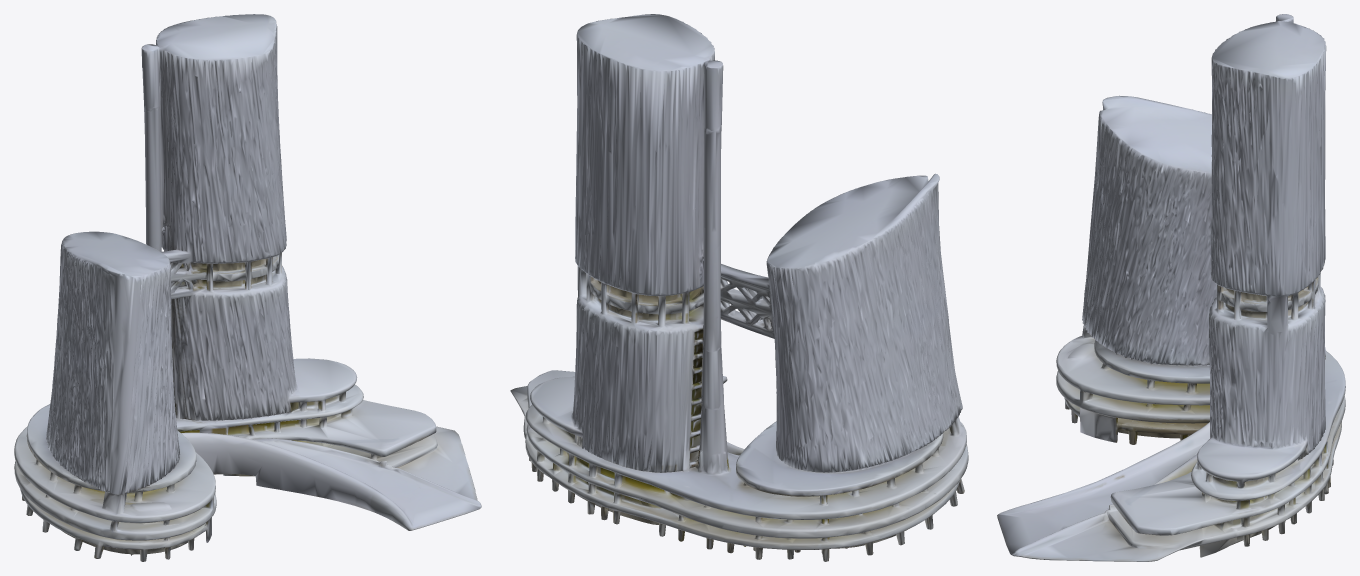
Rendered from highrise-BjZ41bMo.glb.
3 renders of one model, left to right at view 1: azimuth 30°, elevation 25°; view 2: azimuth 150°, elevation 25°; view 3: azimuth 270°, elevation 25°, orthographic. The views are drawn at different scales.
Visible parts, largest first — view 1: node_0; view 2: node_0; view 3: node_0.
Boxes of the visible parts, x1=… form: node_0: x1=14, y1=14, x2=481, y2=561; node_0: x1=510, y1=14, x2=968, y2=561; node_0: x1=997, y1=14, x2=1345, y2=561.
Bounding box in the file's own units: 0.8388 × 0.8364 × 0.6026.
1 material, 1 textured.
